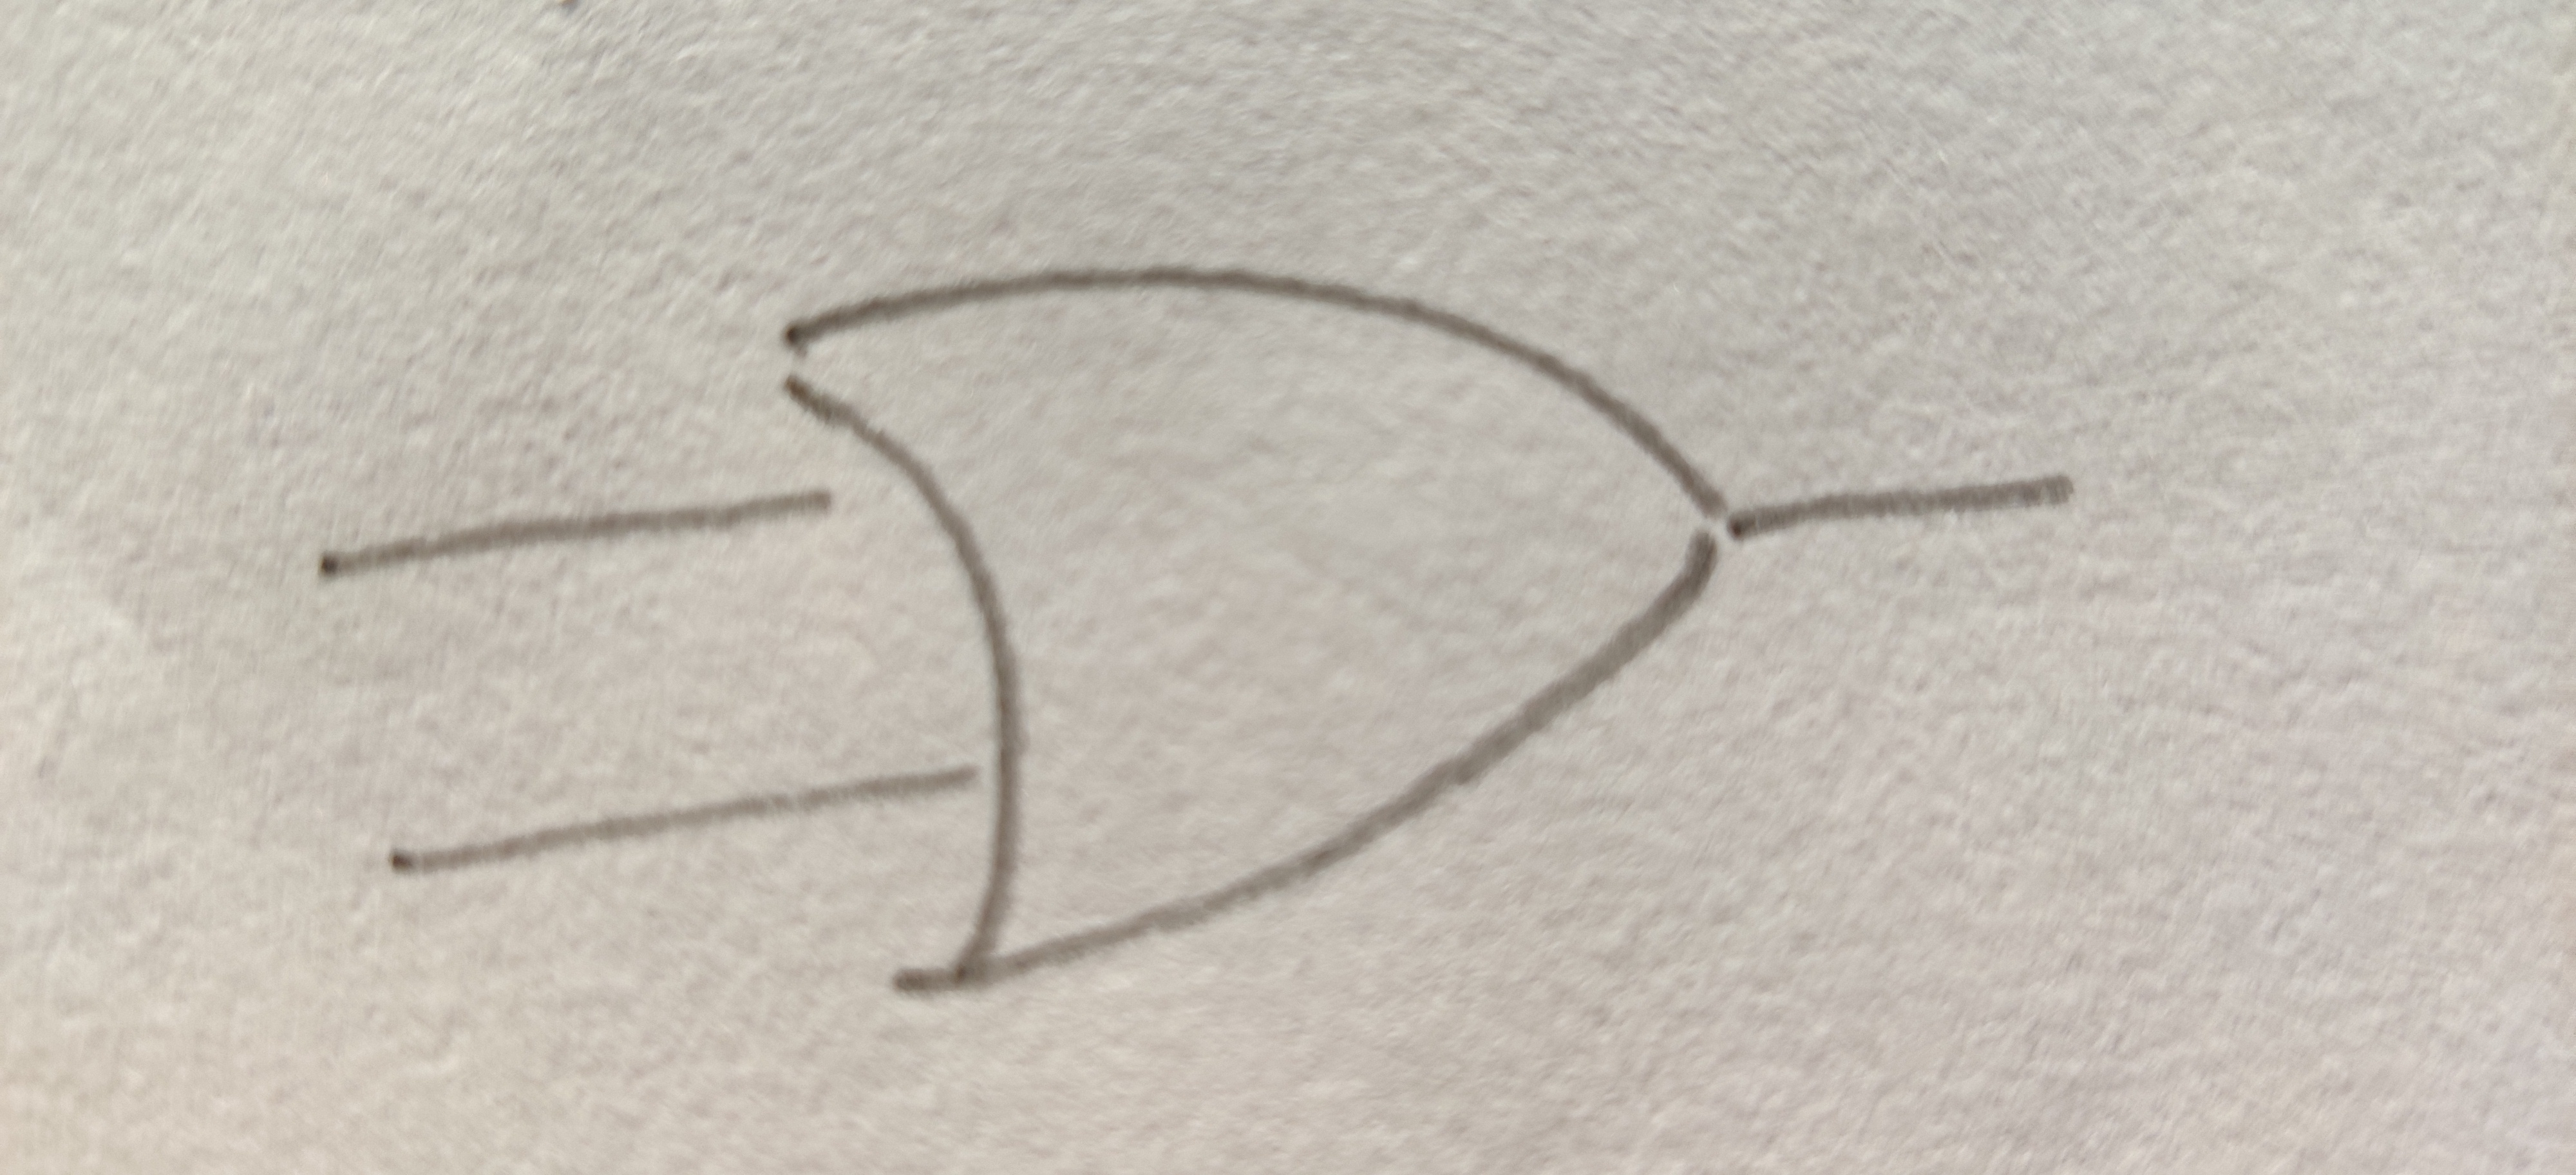or: (790, 270, 1727, 981)
